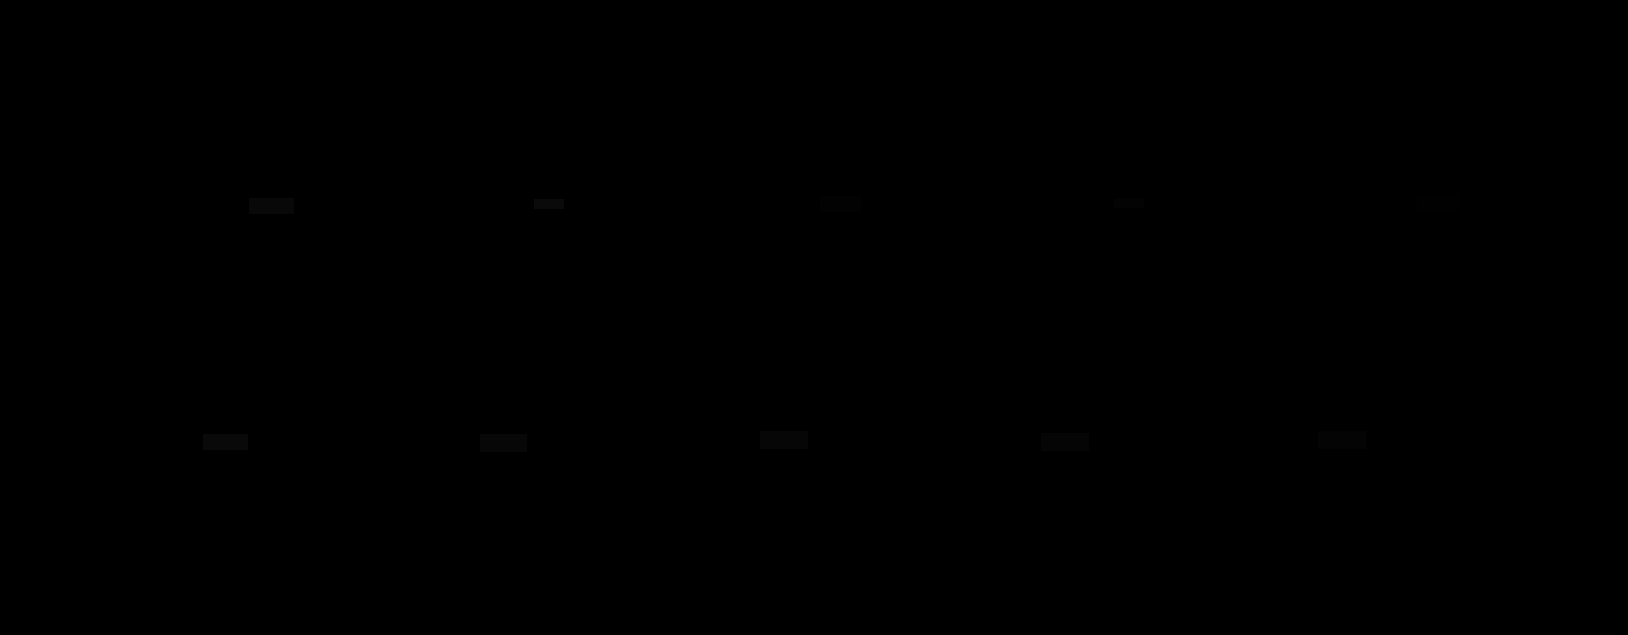light: (1318, 431, 1366, 449), (1041, 433, 1089, 451), (760, 431, 808, 449), (480, 434, 527, 452), (203, 434, 248, 450), (249, 198, 294, 214), (820, 196, 862, 212), (1417, 196, 1459, 211), (1114, 198, 1144, 208), (534, 199, 564, 209)
